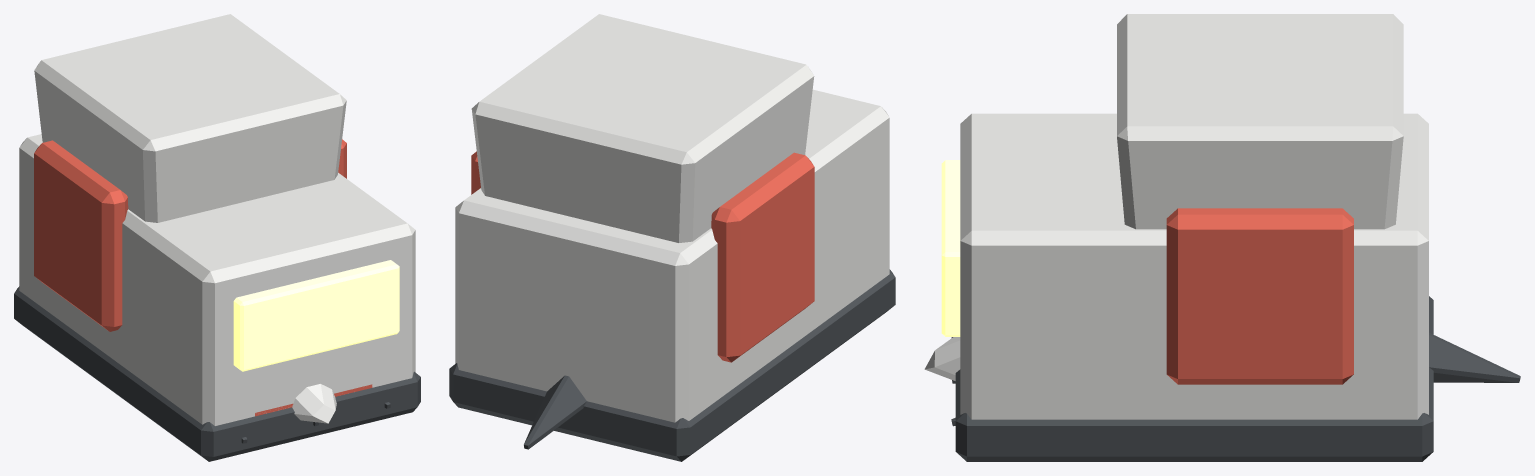
Rendered from boots.glb.
The picture shows the model from 3 angles, left to right: view 1: azimuth 30°, elevation 25°; view 2: azimuth 150°, elevation 25°; view 3: azimuth 270°, elevation 25°; orthographic projection. The views are drawn at different scales.
Visible parts, largest first — view 1: boots__tank__LeftFoot, boots__tank__RightFoot, boots__jet__LeftFoot, boots__jet__RightFoot; view 2: boots__tank__LeftFoot, boots__tank__RightFoot, boots__talon__LeftFoot, boots__talon__RightFoot; view 3: boots__tank__LeftFoot, boots__tank__RightFoot, boots__talon__LeftFoot, boots__jet__LeftFoot.
Boxes of the visible parts, bbox=[...] form: boots__tank__LeftFoot: bbox=[14, 14, 420, 461]; boots__tank__RightFoot: bbox=[14, 14, 420, 460]; boots__jet__LeftFoot: bbox=[255, 384, 372, 423]; boots__jet__RightFoot: bbox=[255, 385, 371, 422]; boots__tank__LeftFoot: bbox=[449, 14, 895, 461]; boots__tank__RightFoot: bbox=[449, 14, 895, 460]; boots__talon__LeftFoot: bbox=[524, 375, 586, 449]; boots__talon__RightFoot: bbox=[524, 376, 586, 449]; boots__tank__LeftFoot: bbox=[941, 14, 1433, 461]; boots__tank__RightFoot: bbox=[941, 14, 1433, 461]; boots__talon__LeftFoot: bbox=[951, 332, 1520, 422]; boots__jet__LeftFoot: bbox=[925, 337, 960, 369].
Bounding box in the file's own units: 0.184 × 0.21 × 0.3181.
